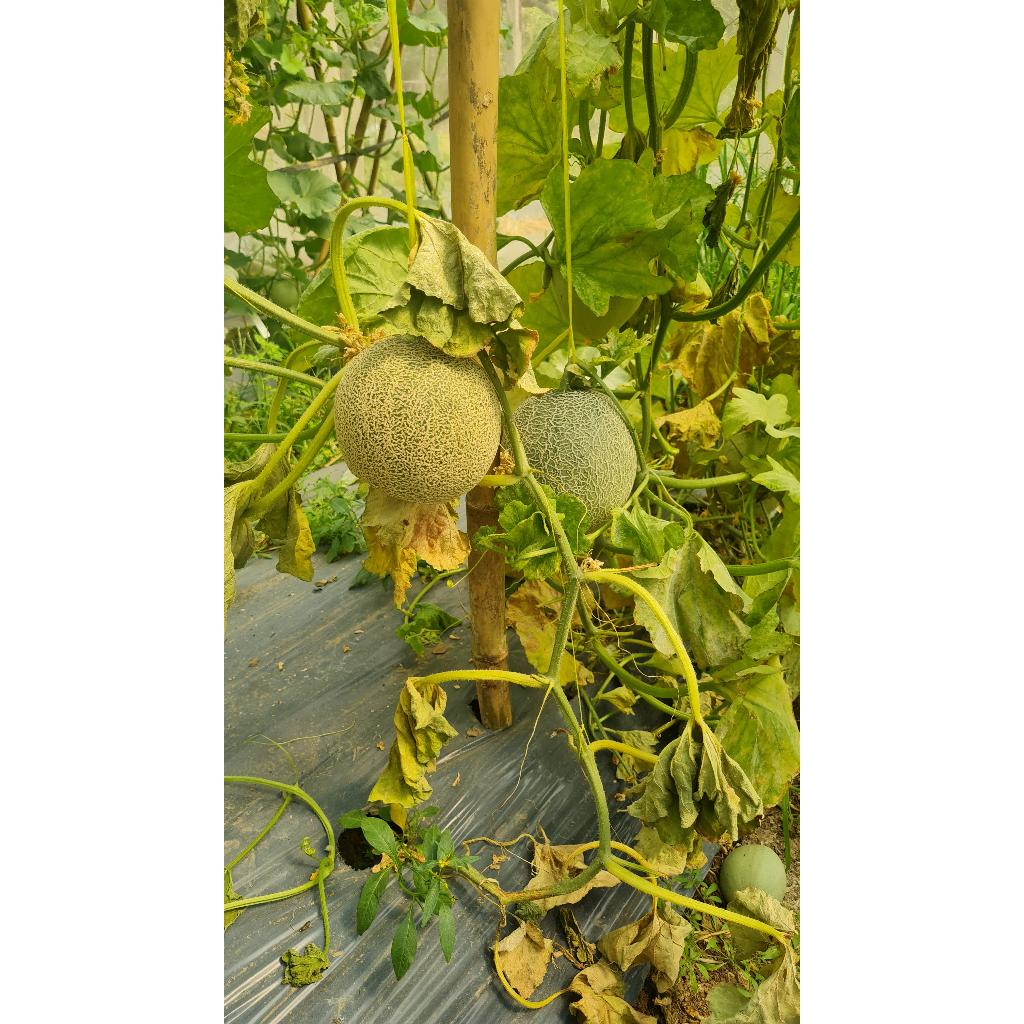melon: (334, 336, 502, 504), (514, 390, 636, 530)
